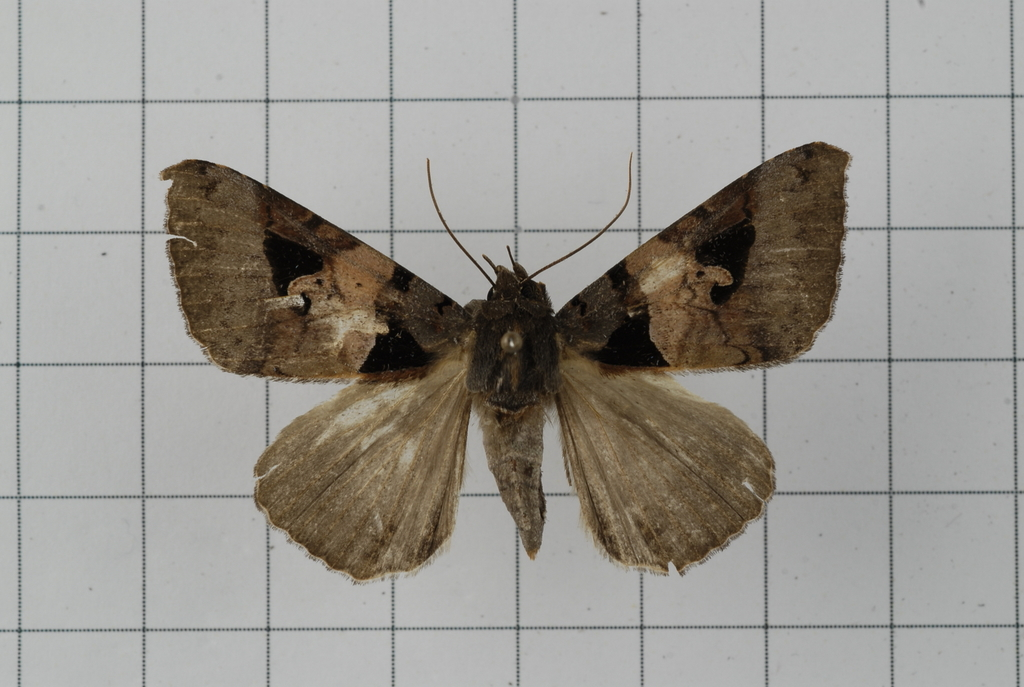Butterfly: (149, 141, 866, 590)
